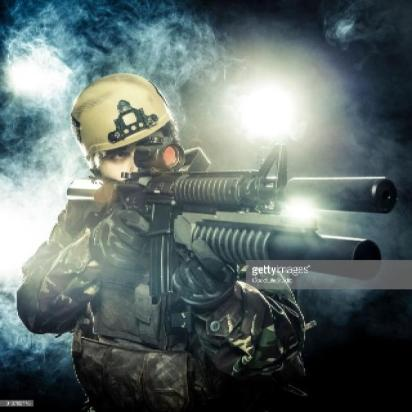Gun: (63, 134, 401, 282)
